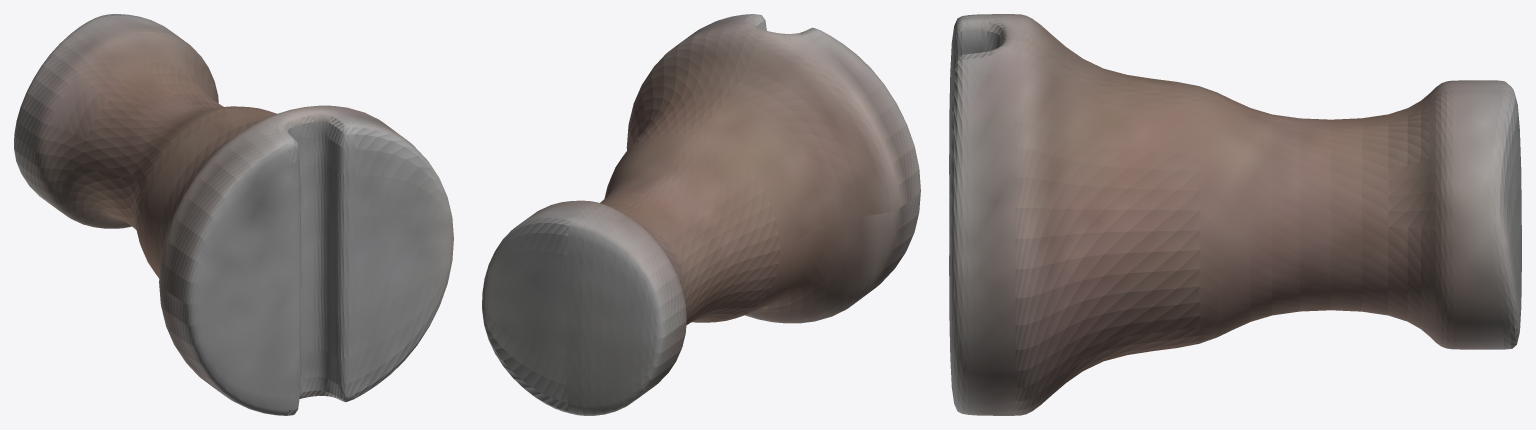
File: Scissors2Screw.obj
The picture shows the model from 3 angles, left to right: view 1: azimuth 30°, elevation 25°; view 2: azimuth 150°, elevation 25°; view 3: azimuth 270°, elevation 25°; orthographic projection. The views are drawn at different scales.
Parts seen in each view (by area): view 1: Scissors2Screw; view 2: Scissors2Screw; view 3: Scissors2Screw.
Part boxes in pixels (x1,y1,x2,y2): Scissors2Screw: (14, 14, 453, 415); Scissors2Screw: (482, 14, 920, 415); Scissors2Screw: (949, 14, 1521, 415).
Bounding box in the file's own units: 0.00965 × 0.00977 × 0.0139.
Materials: 1 (1 with a texture image).
